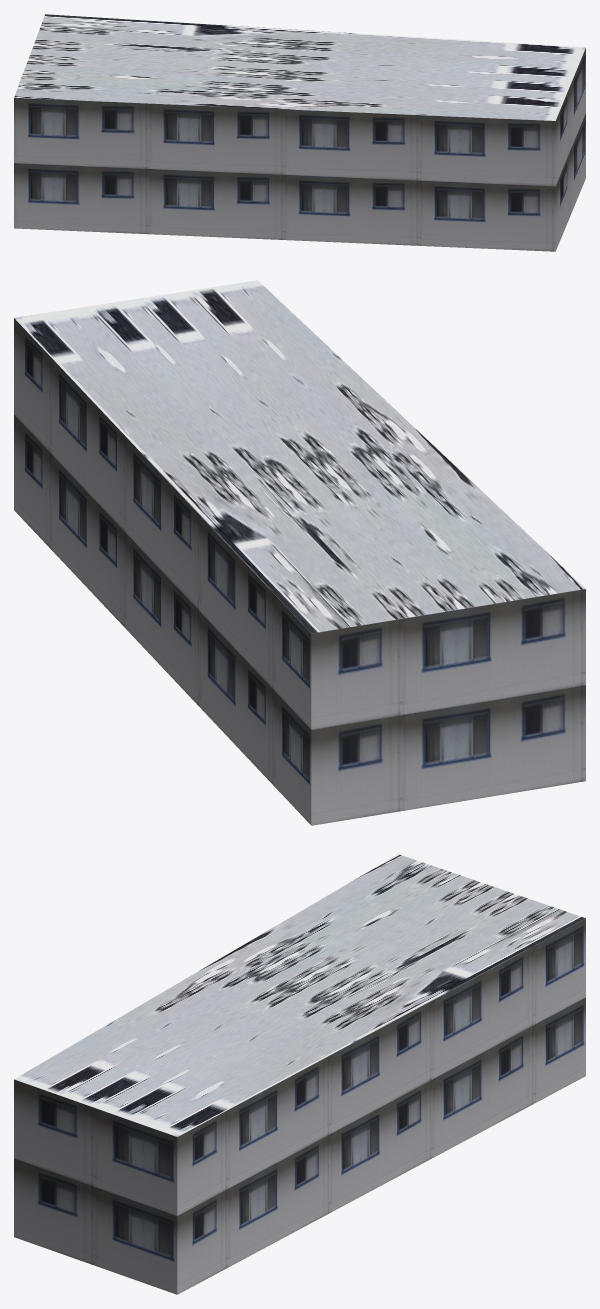
Rendered from ResTex__919.fbx.
3 renders of one model, top to bottom at view 1: azimuth 30°, elevation 25°; view 2: azimuth 150°, elevation 25°; view 3: azimuth 270°, elevation 25°, orthographic. The views are drawn at different scales.
Visible parts, largest first — view 1: CityEngineMaterial_9_m, CityEngineMaterial_2_m; view 2: CityEngineMaterial_9_m, CityEngineMaterial_2_m; view 3: CityEngineMaterial_9_m, CityEngineMaterial_2_m.
Boxes of the visible parts, x1,y1,x2,y2 form: CityEngineMaterial_9_m: [14, 48, 585, 251]; CityEngineMaterial_2_m: [14, 14, 585, 120]; CityEngineMaterial_9_m: [14, 318, 585, 825]; CityEngineMaterial_2_m: [14, 280, 585, 633]; CityEngineMaterial_9_m: [14, 918, 585, 1294]; CityEngineMaterial_2_m: [14, 854, 585, 1136].
Bounding box in the file's own units: 23.08 × 6 × 19.71.
2 materials, 2 textured.
